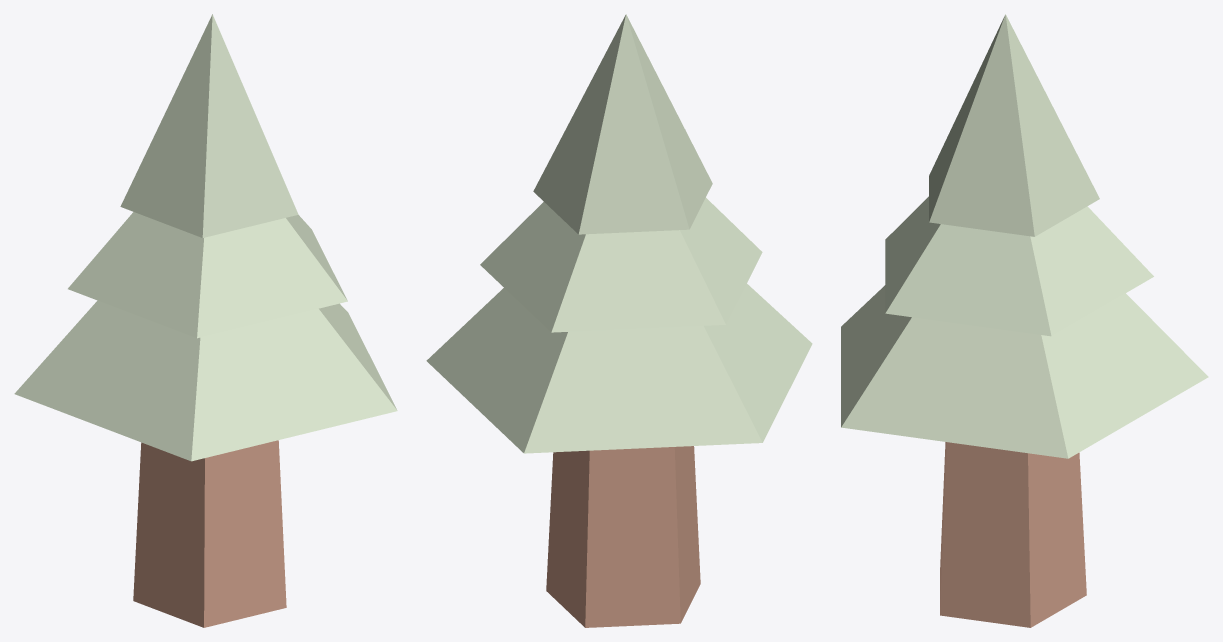
Rendered from treeb.fbx.
3 renders of one model, left to right at view 1: azimuth 30°, elevation 25°; view 2: azimuth 150°, elevation 25°; view 3: azimuth 270°, elevation 25°, orthographic.
Visible parts, largest first — view 1: treeb; view 2: treeb; view 3: treeb.
Part boxes in pixels (x1,y1,x2,y2): treeb: (14,14,397,627); treeb: (426,14,812,627); treeb: (841,14,1208,627).
Size of the model in its own units: 585 by 971 by 557.
